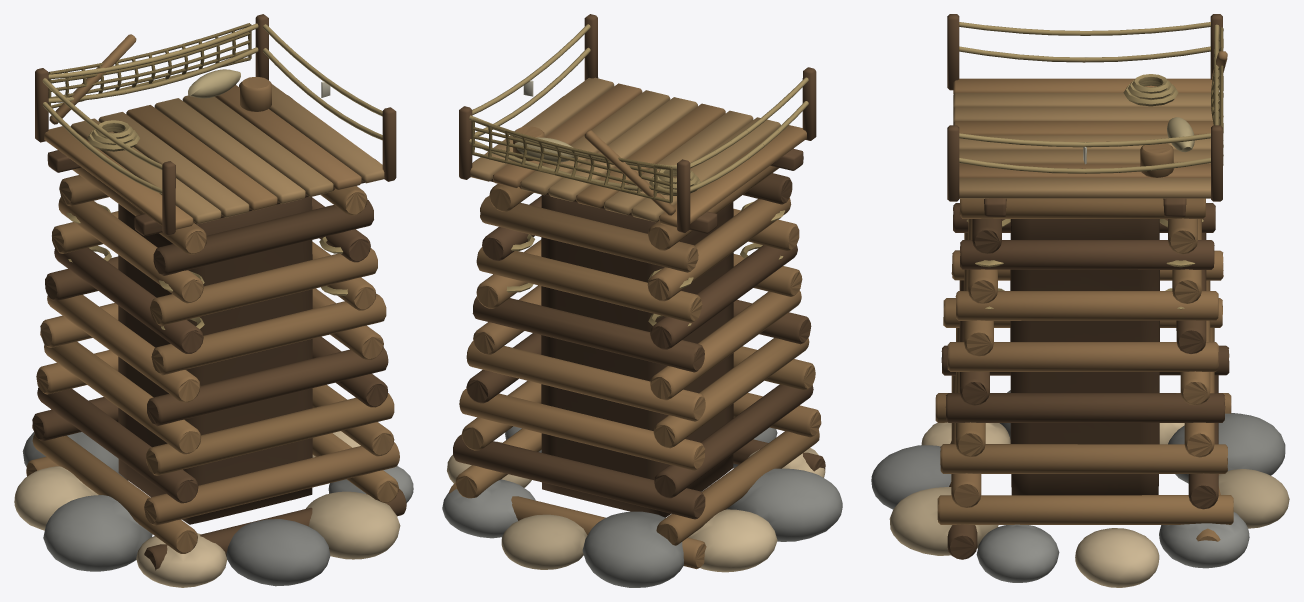
File: lookout_deck_c.glb
The picture shows the model from 3 angles, left to right: view 1: azimuth 30°, elevation 25°; view 2: azimuth 150°, elevation 25°; view 3: azimuth 270°, elevation 25°; orthographic projection. The views are drawn at different scales.
Visible parts, largest first — view 1: Surface; view 2: Surface; view 3: Surface.
Part boxes in pixels (x1,y1,x2,y2): Surface: (14,14,413,587); Surface: (442,14,842,587); Surface: (871,14,1289,587).
Size of the model in its own units: 7.06 by 8.4 by 6.99.
